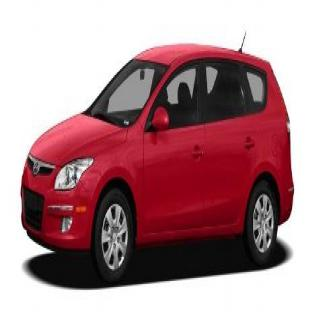Auto: (20, 45, 295, 284)
